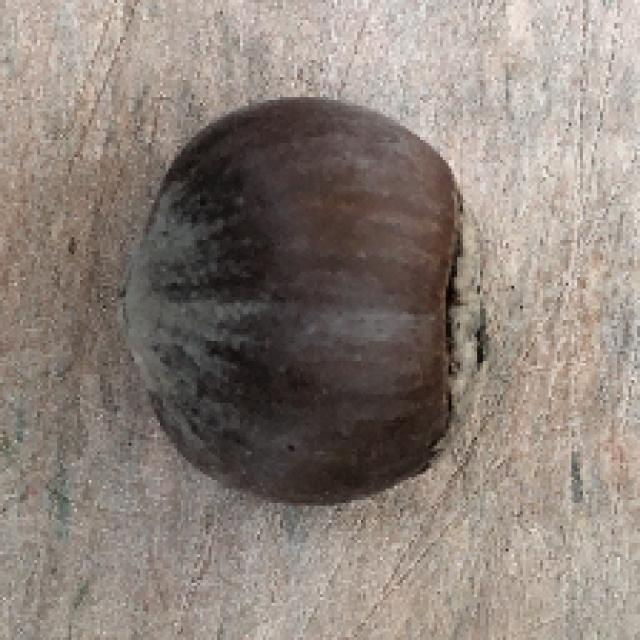damagedHazelnut: (96, 86, 507, 517)
